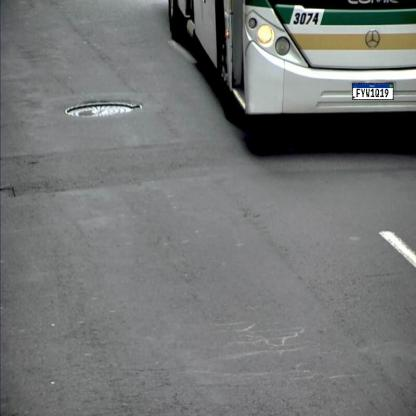PlacaM: (352, 83, 394, 100)
